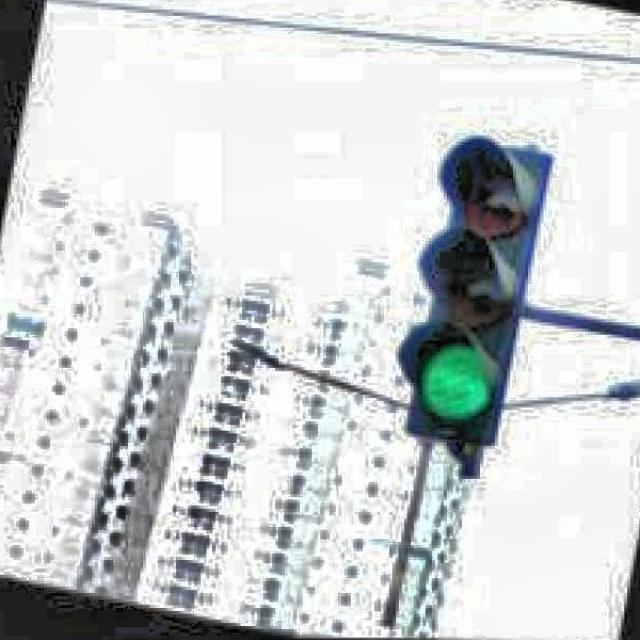green: (405, 142, 549, 444)
